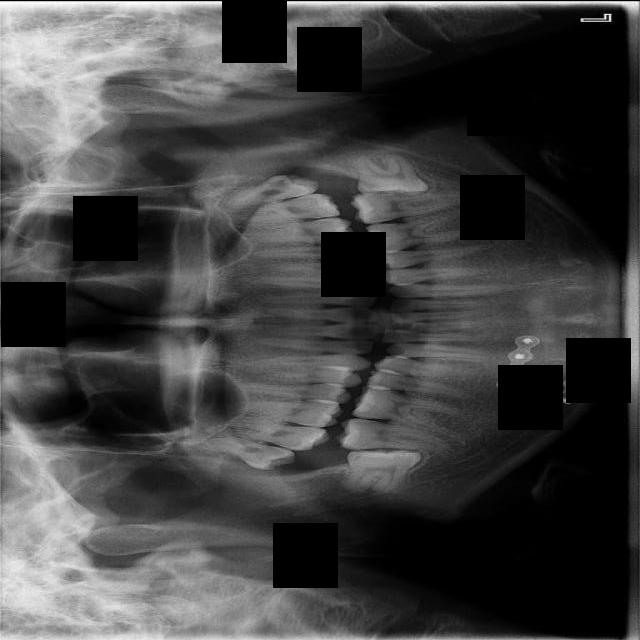3M ESPE Implant: (184, 425, 300, 478)
73: (581, 33, 589, 37)
BioHorizons Implant: (228, 190, 341, 227)
BioLife Implant: (221, 165, 321, 214)
Biomet 3i Implant: (355, 149, 429, 198)
Blue Sky Bio Implant: (349, 192, 454, 223)
Caries: (206, 411, 331, 454)
Implant: (334, 417, 448, 450)
Keystone Dental Implant: (342, 448, 423, 496)
